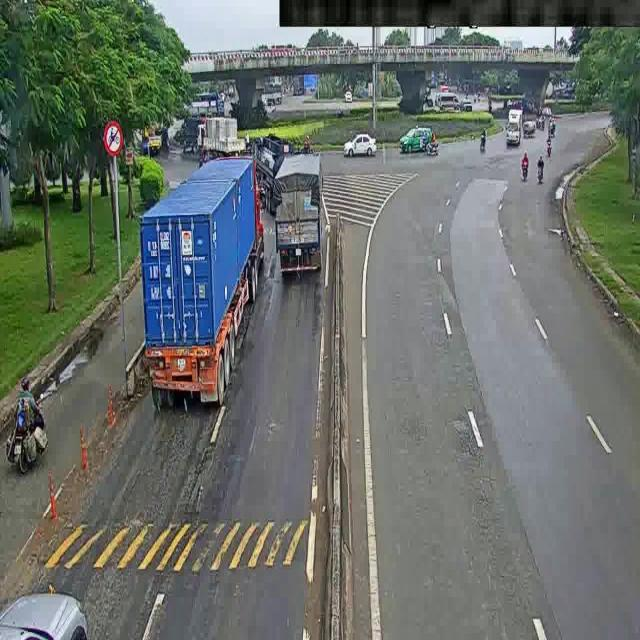car: (2, 566, 112, 640), (504, 107, 525, 155), (353, 130, 384, 156), (400, 131, 433, 154), (437, 90, 465, 111)
motorbike: (3, 375, 78, 476), (470, 124, 497, 163), (421, 132, 445, 157), (519, 150, 532, 185), (535, 153, 547, 190), (547, 118, 563, 141), (537, 112, 549, 134), (545, 136, 553, 162)
truck: (139, 149, 271, 396), (271, 145, 342, 289), (242, 125, 303, 205), (190, 118, 252, 162)
